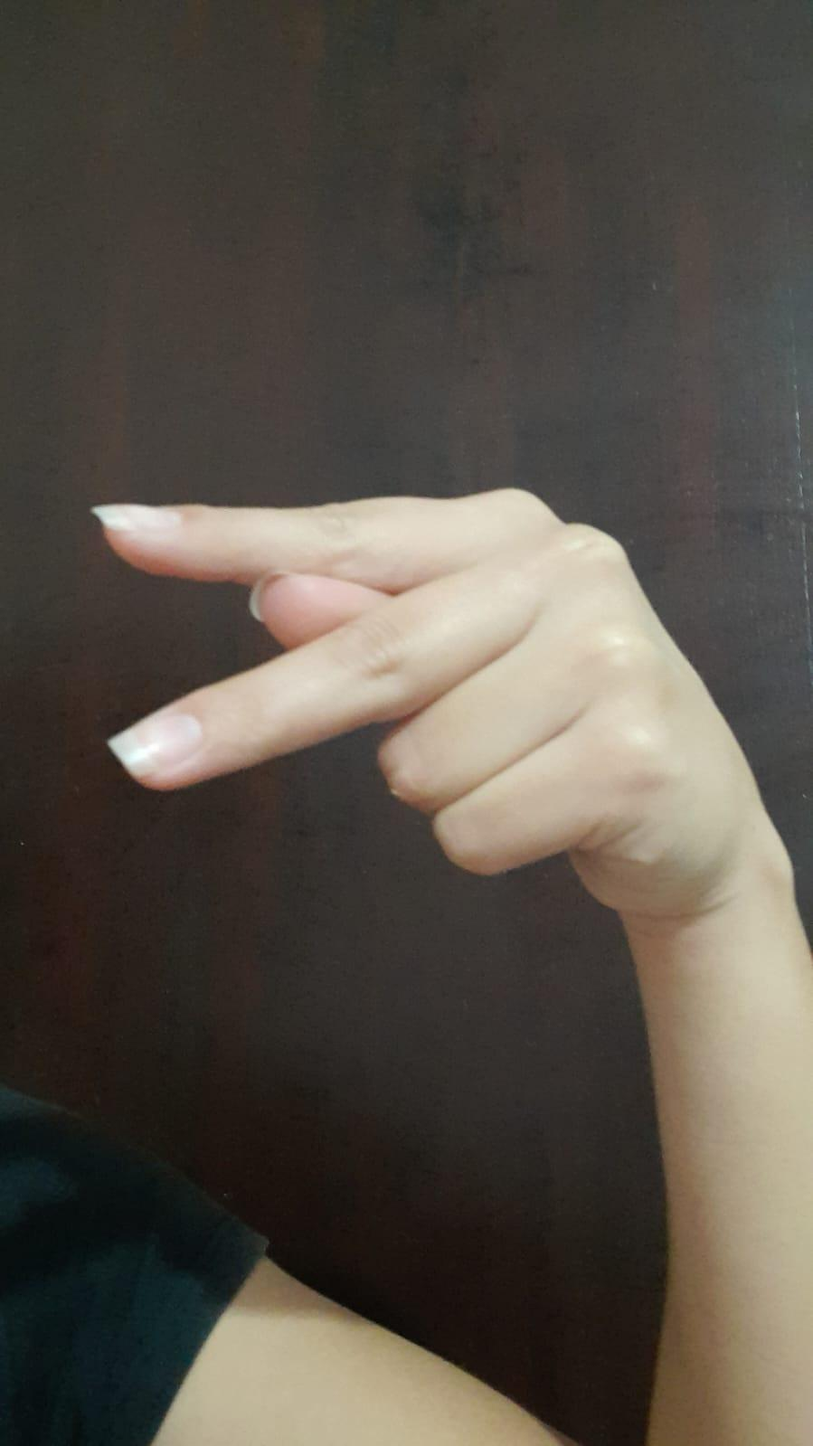P: (72, 443, 796, 945)
